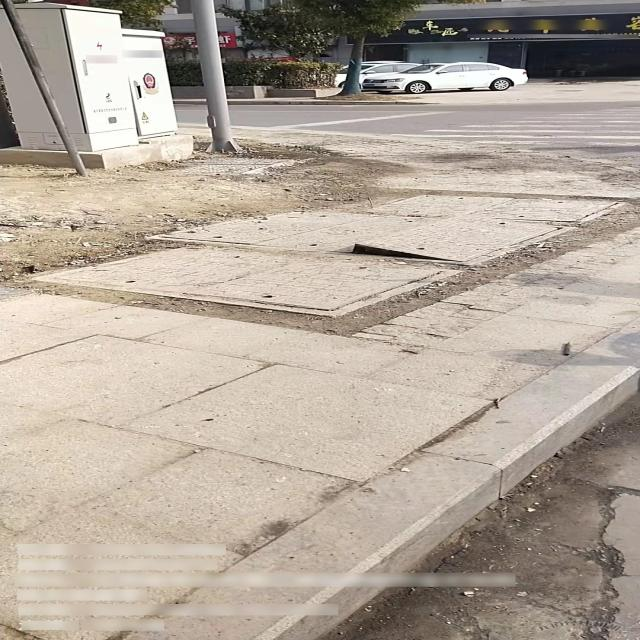Good: (25, 246, 463, 320), (372, 192, 633, 225)
Lose: (140, 208, 576, 267)
